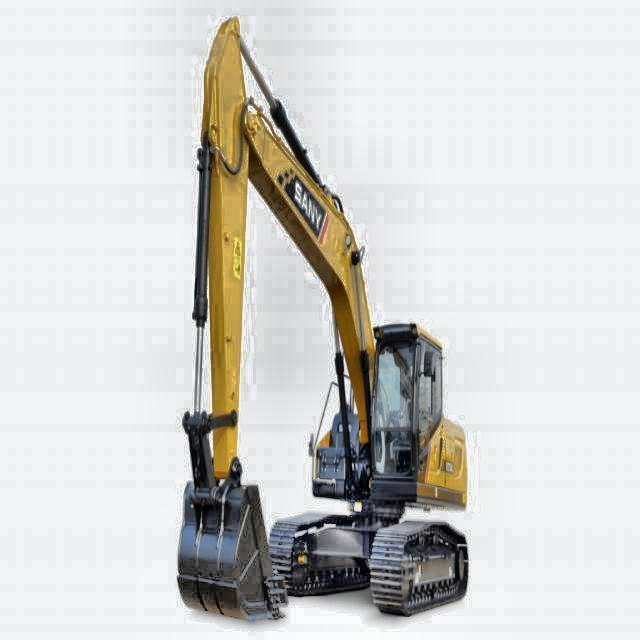excavator: (173, 17, 508, 620)
